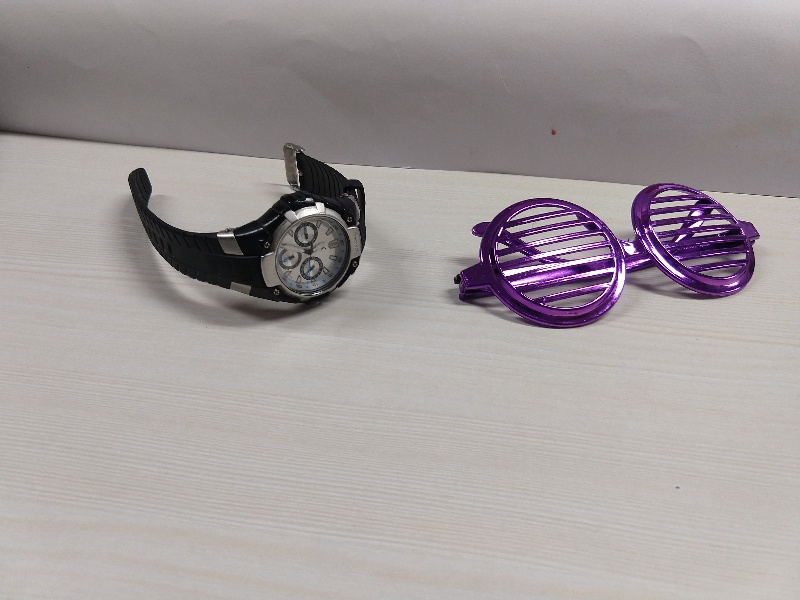shades: (449, 174, 781, 336)
watch: (121, 136, 378, 307)
